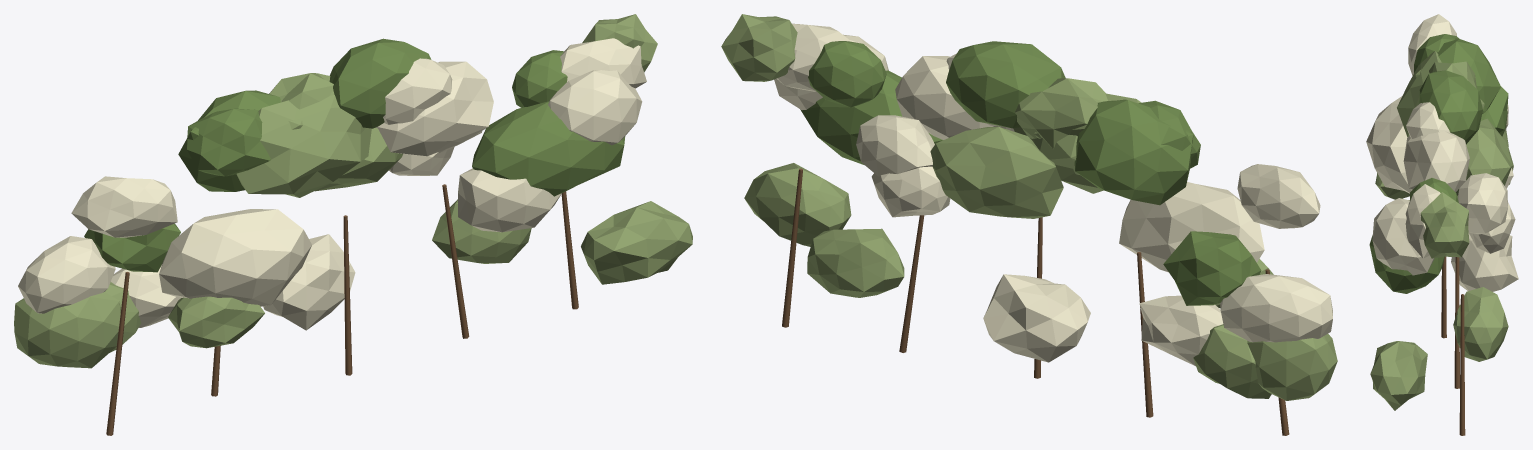
File: fagyal-soveny-4m.glb
3 renders of one model, left to right at view 1: azimuth 30°, elevation 25°; view 2: azimuth 150°, elevation 25°; view 3: azimuth 270°, elevation 25°, orthographic. The views are drawn at different scales.
Visible parts, largest first — view 1: korona-8, korona-12, korona-23, korona-27, korona-1, korona-18, korona-16, korona-3, korona-25, korona-2, korona-21, korona-14 (+18 smaller); view 2: korona-15, korona-10, korona-8, korona-14, korona-16, korona-2, korona-27, korona-22, korona-5, korona-1, korona-3, korona-18 (+15 smaller); view 3: korona-18, korona-27, korona-16, korona-22, korona-25, korona-8, korona-28, korona-14, korona-20, korona-15, korona-10, korona-23 (+13 smaller).
Part boxes in pixels (x1,y1,x2,y2): korona-8: [159, 209, 311, 306]; korona-12: [236, 94, 371, 197]; korona-23: [472, 101, 625, 196]; korona-27: [581, 201, 692, 284]; korona-1: [14, 292, 120, 368]; korona-18: [377, 61, 493, 156]; korona-16: [329, 38, 431, 128]; korona-3: [71, 176, 177, 237]; korona-25: [548, 70, 642, 145]; korona-2: [18, 236, 115, 313]; korona-21: [458, 168, 561, 232]; korona-14: [263, 234, 355, 330]; korona-15: [930, 126, 1063, 218]; korona-10: [1074, 99, 1193, 205]; korona-8: [1119, 182, 1264, 272]; korona-14: [983, 274, 1090, 362]; korona-16: [946, 41, 1065, 128]; korona-2: [1220, 274, 1332, 342]; korona-27: [744, 163, 851, 246]; korona-22: [807, 228, 904, 297]; korona-5: [1163, 231, 1261, 305]; korona-1: [1247, 334, 1337, 400]; korona-3: [1237, 164, 1320, 228]; korona-18: [895, 56, 1014, 139]; korona-18: [1403, 131, 1469, 192]; korona-27: [1370, 341, 1427, 410]; korona-16: [1419, 70, 1482, 144]; korona-22: [1453, 287, 1508, 361]; korona-25: [1372, 198, 1434, 275]; korona-8: [1366, 96, 1411, 193]; korona-28: [1420, 192, 1469, 258]; korona-14: [1451, 233, 1518, 291]; korona-20: [1457, 173, 1507, 234]; korona-15: [1456, 118, 1512, 196]; korona-10: [1437, 38, 1500, 113]; korona-23: [1369, 200, 1444, 293].
Bounding box in the file's own units: 4.32 × 2.13 × 1.08.
